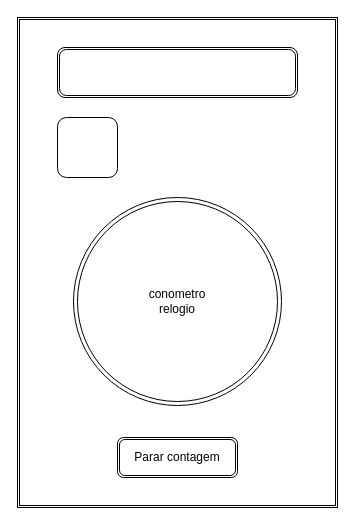
This 355x525 diagram has some shape labels left out. The box of each missing label's shape, as (x1, y1, x2, y2) in pixels:
F04: (56, 116, 118, 178)
LOGOTIPO: (56, 46, 298, 98)
